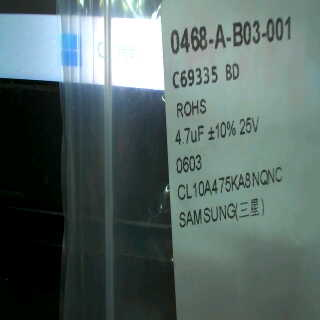4.7uF: (173, 123, 206, 150)
